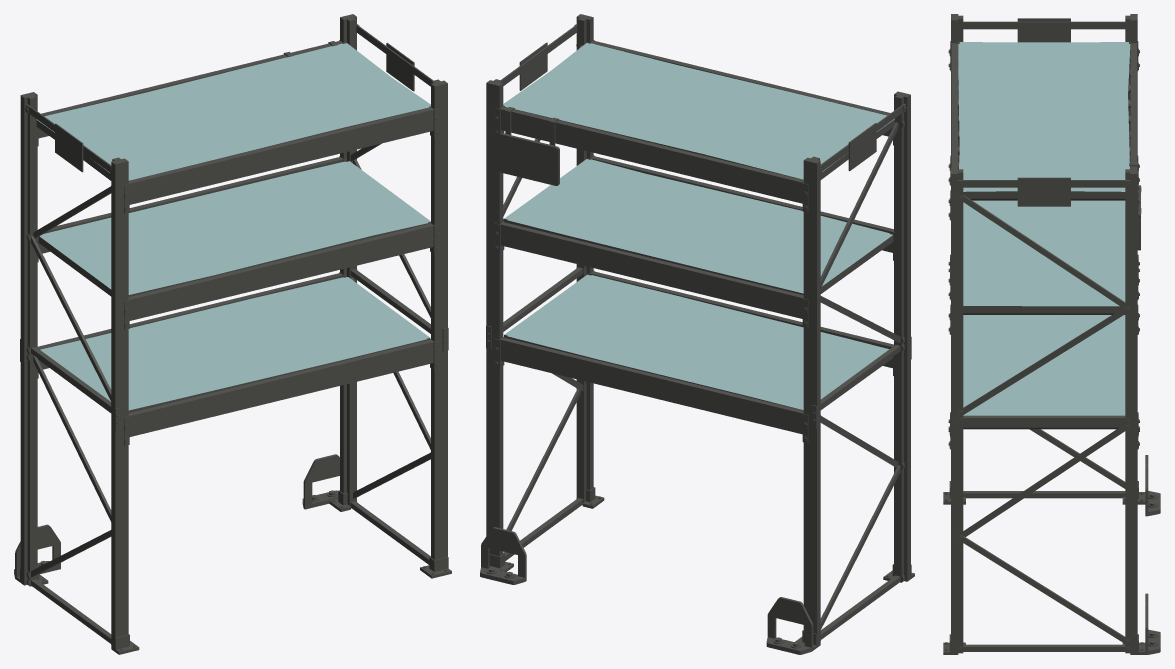
File: raf2.fbx
3 renders of one model, left to right at view 1: azimuth 30°, elevation 25°; view 2: azimuth 150°, elevation 25°; view 3: azimuth 270°, elevation 25°, orthographic.
Visible parts, largest first — view 1: polySurface698; view 2: polySurface698; view 3: polySurface698.
Part boxes in pixels (x1,y1,x2,y2): polySurface698: (14, 14, 451, 654); polySurface698: (480, 14, 914, 654); polySurface698: (943, 14, 1160, 654).
Size of the model in its own units: 300 by 420 by 172.
